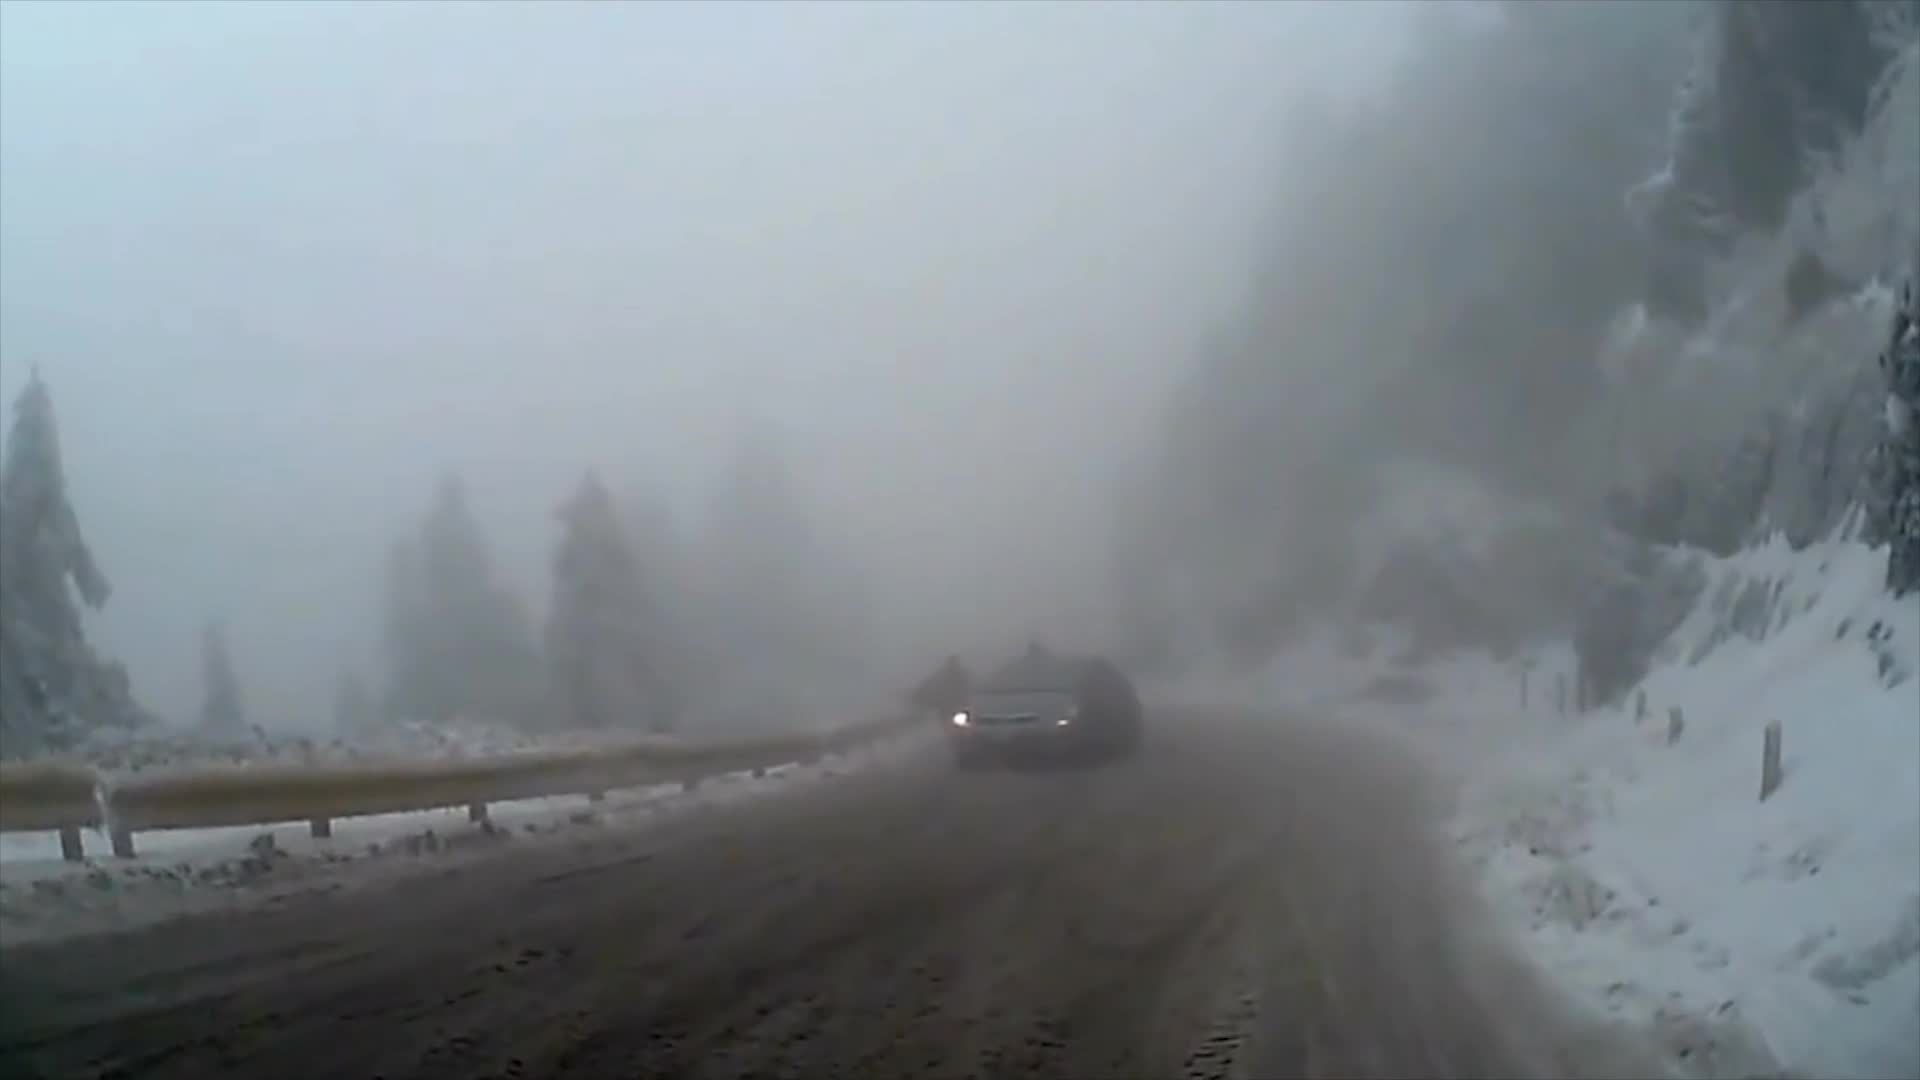vehicle: (948, 655, 1145, 775)
